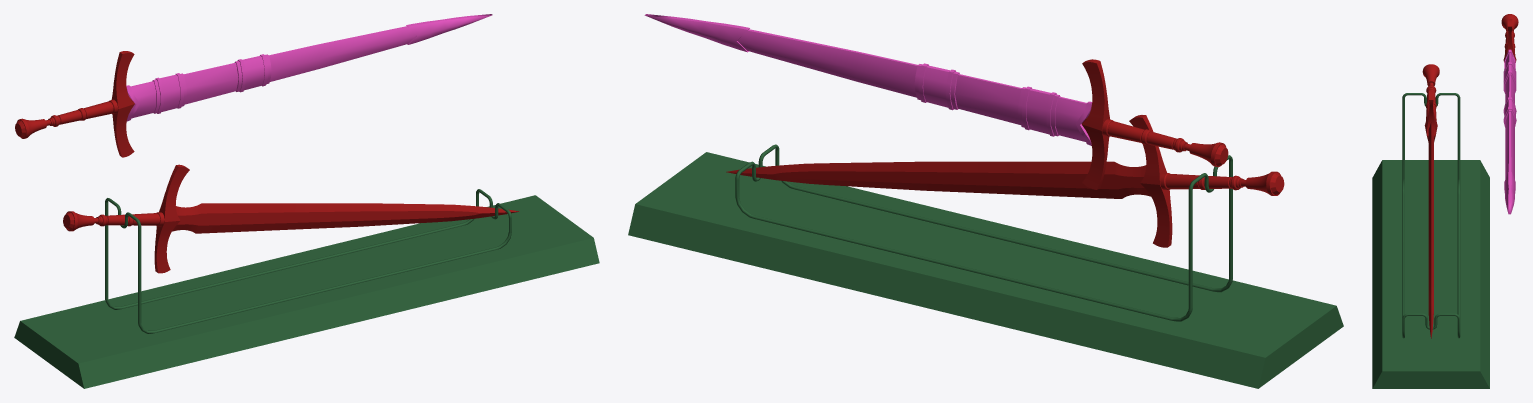
Rendered from exp.fbx.
3 renders of one model, left to right at view 1: azimuth 30°, elevation 25°; view 2: azimuth 150°, elevation 25°; view 3: azimuth 270°, elevation 25°, orthographic. The views are drawn at different scales.
Parts seen in each view (by area): view 1: Box002, sword_lp, Object004, Line002, sword_lp001; view 2: Box002, sword_lp, Object004, Line002, sword_lp001; view 3: Box002, Line002, sword_lp, Object004, sword_lp001.
Part boxes in pixels (bbox=[...]): Box002: bbox=[14, 195, 599, 388]; sword_lp: bbox=[63, 164, 519, 273]; Object004: bbox=[126, 14, 492, 121]; Line002: bbox=[105, 189, 511, 333]; sword_lp001: bbox=[15, 51, 134, 157]; Box002: bbox=[628, 152, 1343, 388]; sword_lp: bbox=[726, 115, 1284, 247]; Object004: bbox=[644, 14, 1092, 145]; Line002: bbox=[735, 144, 1232, 321]; sword_lp001: bbox=[1081, 59, 1228, 189]; Box002: bbox=[1372, 160, 1489, 388]; Line002: bbox=[1402, 93, 1460, 338]; sword_lp: bbox=[1422, 64, 1439, 338]; Object004: bbox=[1503, 49, 1516, 214]; sword_lp001: bbox=[1501, 14, 1518, 62].
Bounding box in the file's own units: 1276 × 584 × 373.
